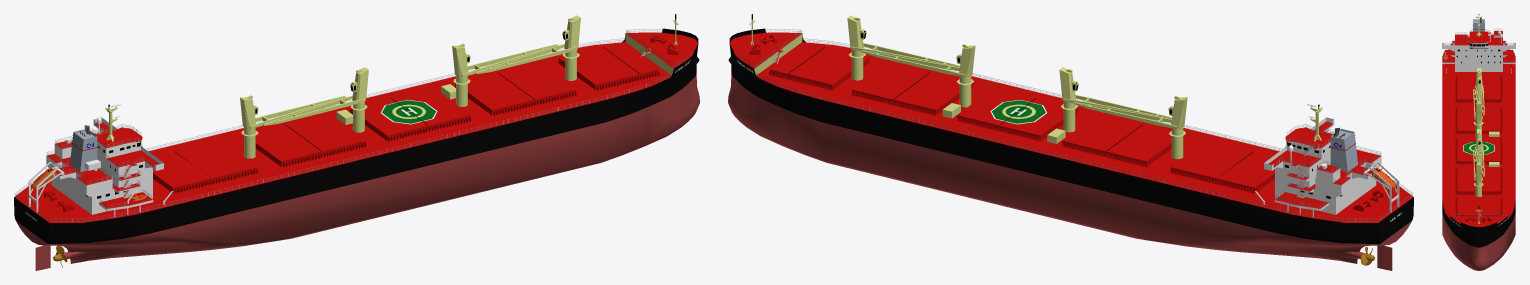
The model's file is bulk-carrier.glb.
3 views of the same model, side by side, from view 1: azimuth 30°, elevation 25°; view 2: azimuth 150°, elevation 25°; view 3: azimuth 270°, elevation 25° (orthographic). The views are drawn at different scales.
Visible parts, largest first — view 1: Object_4, Object_58; view 2: Object_4, Object_58; view 3: Object_4, Object_58, Object_14.
Part boxes in pixels (left/top/right/bottom): Object_4: left=14, top=14, right=699, bottom=270; Object_58: left=15, top=29, right=691, bottom=222; Object_4: left=728, top=14, right=1413, bottom=270; Object_58: left=736, top=29, right=1412, bottom=222; Object_4: left=1442, top=14, right=1515, bottom=270; Object_58: left=1443, top=29, right=1514, bottom=222; Object_14: left=1456, top=43, right=1503, bottom=63.
Size of the model in its own units: 1.99 by 0.4284 by 0.3237.
4 materials, 2 textured.
